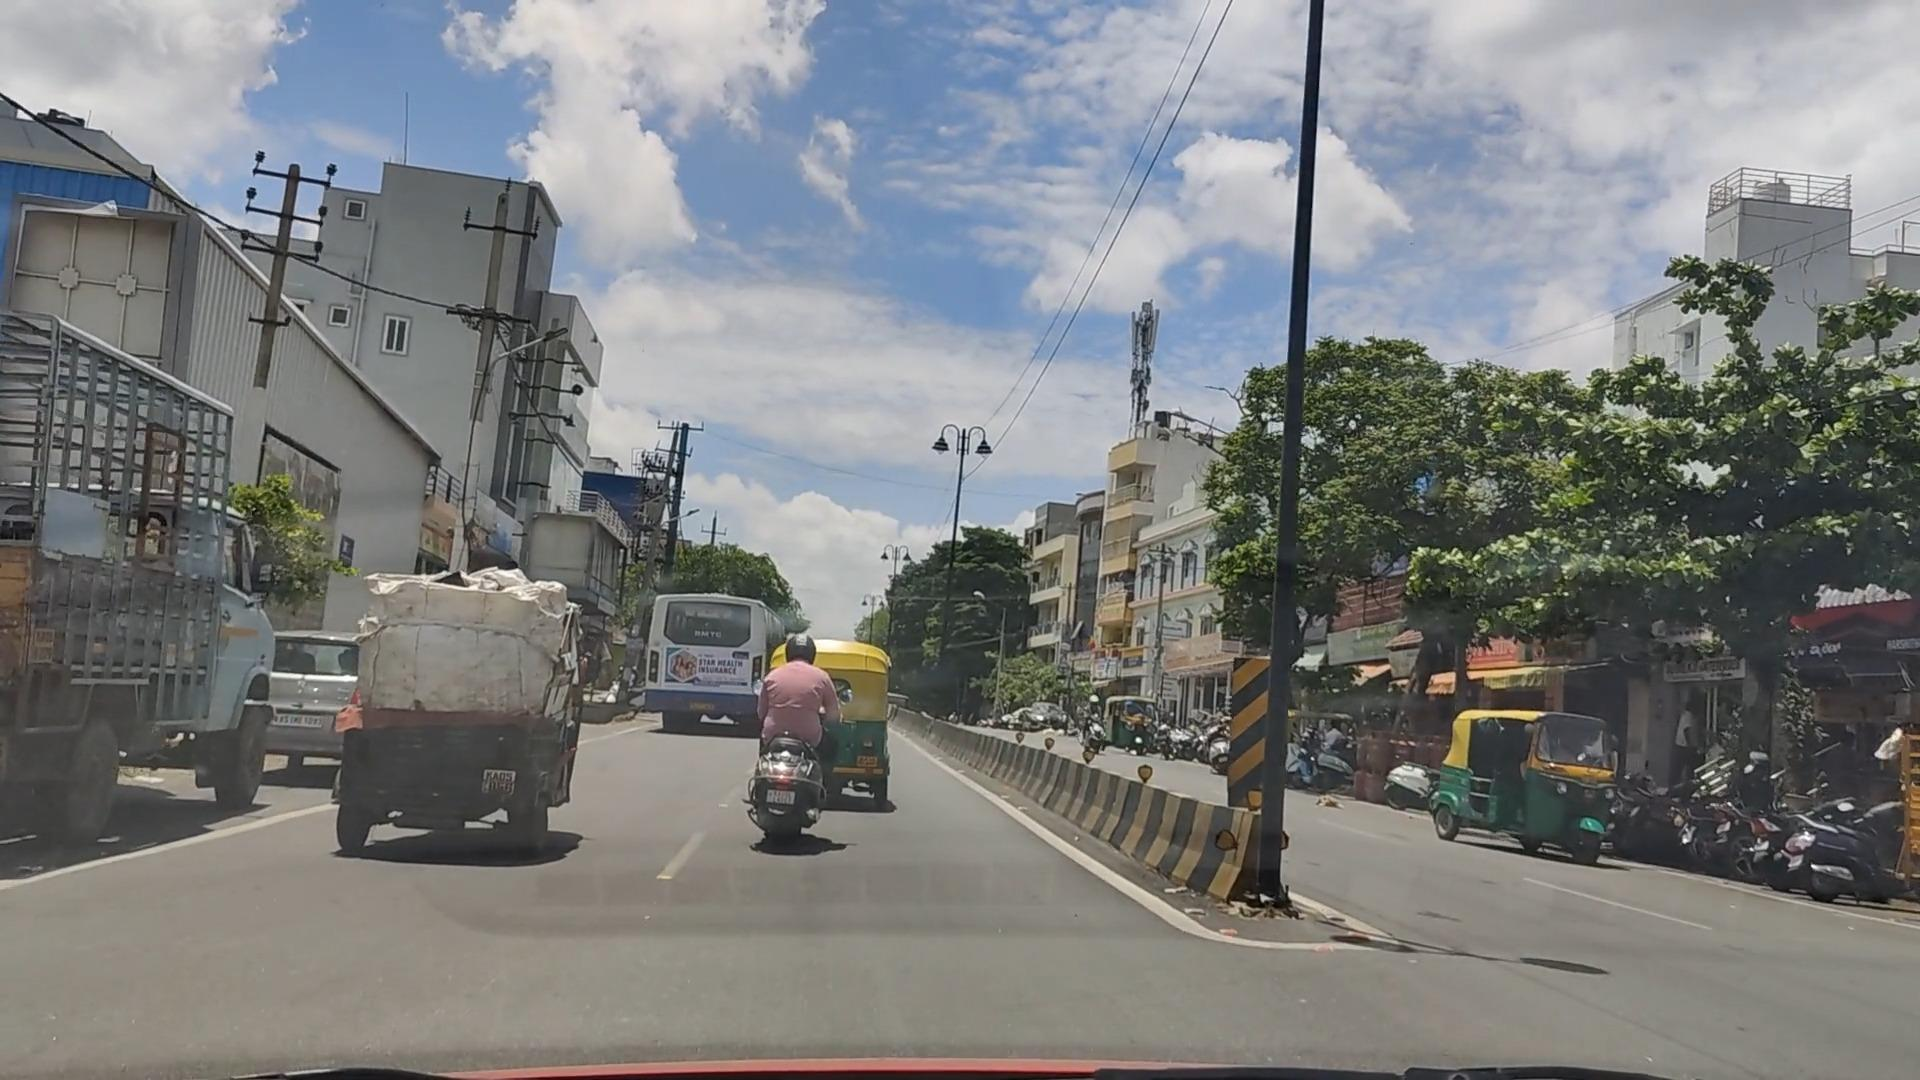HMV: (0, 298, 280, 864), (661, 583, 773, 731)
LMV: (351, 563, 589, 874), (713, 663, 940, 798), (748, 638, 831, 836)
